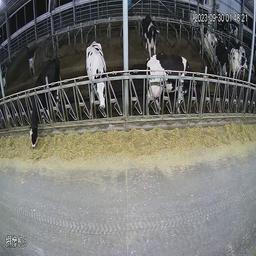cow: (26, 56, 62, 151), (148, 52, 203, 112), (84, 41, 109, 117), (199, 21, 217, 69), (140, 11, 154, 60), (231, 44, 248, 80), (188, 7, 199, 32)
